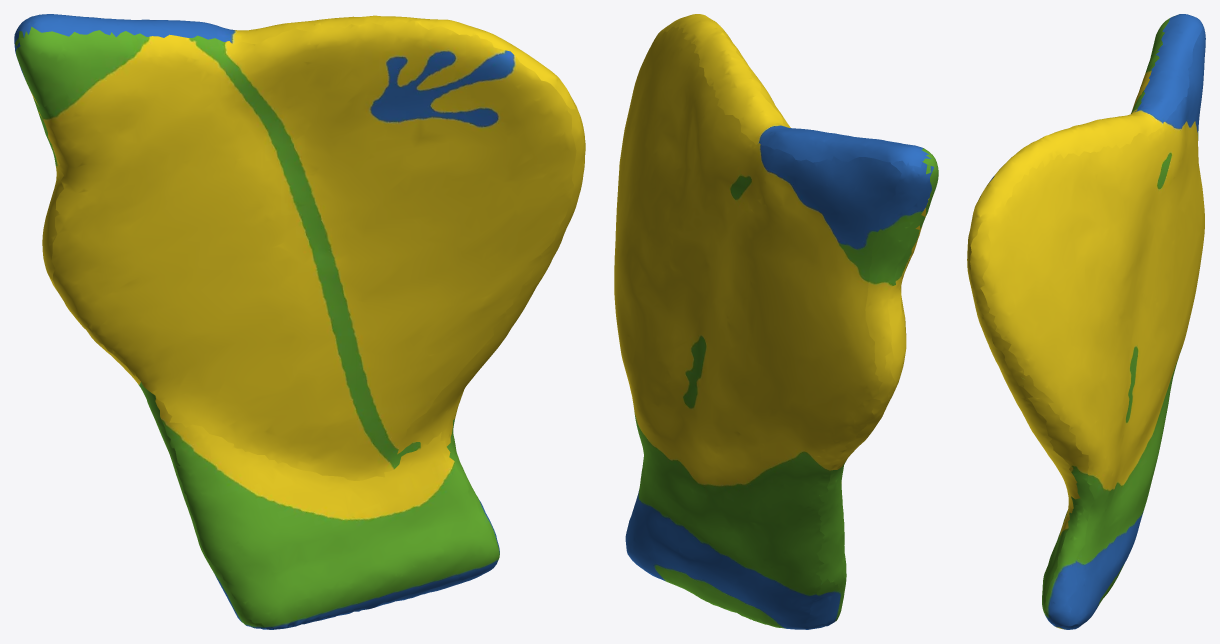
File: peak.glb
3 renders of one model, left to right at view 1: azimuth 30°, elevation 25°; view 2: azimuth 150°, elevation 25°; view 3: azimuth 270°, elevation 25°, orthographic. The views are drawn at different scales.
Visible parts, largest first — view 1: geometry_0; view 2: geometry_0; view 3: geometry_0.
Part boxes in pixels (x1=…): geometry_0: x1=14, y1=14, x2=585, y2=629; geometry_0: x1=614, y1=14, x2=938, y2=629; geometry_0: x1=967, y1=14, x2=1205, y2=629.
Bounding box in the file's own units: 0.6469 × 0.8241 × 0.3746.
Materials: 1 (1 with a texture image).
